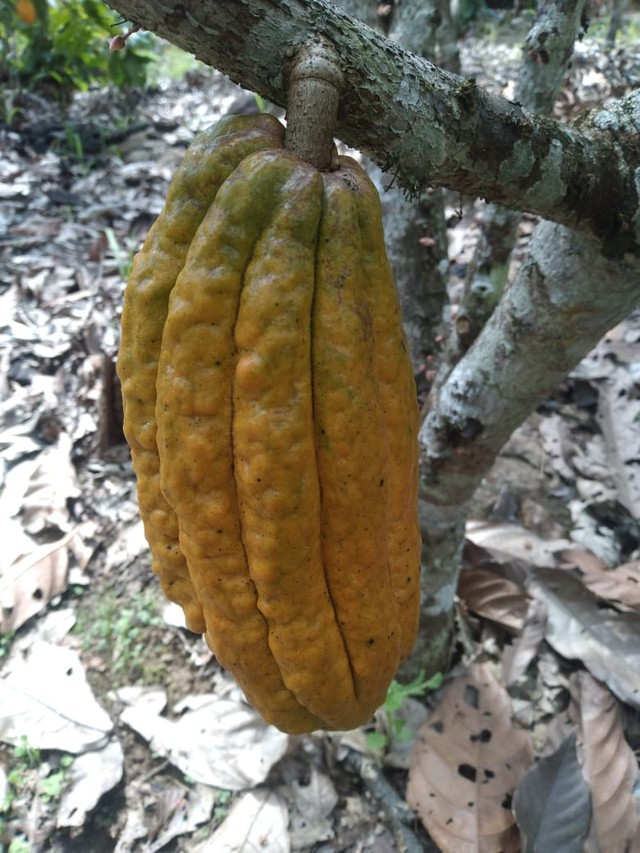Health: (71, 64, 481, 766)
